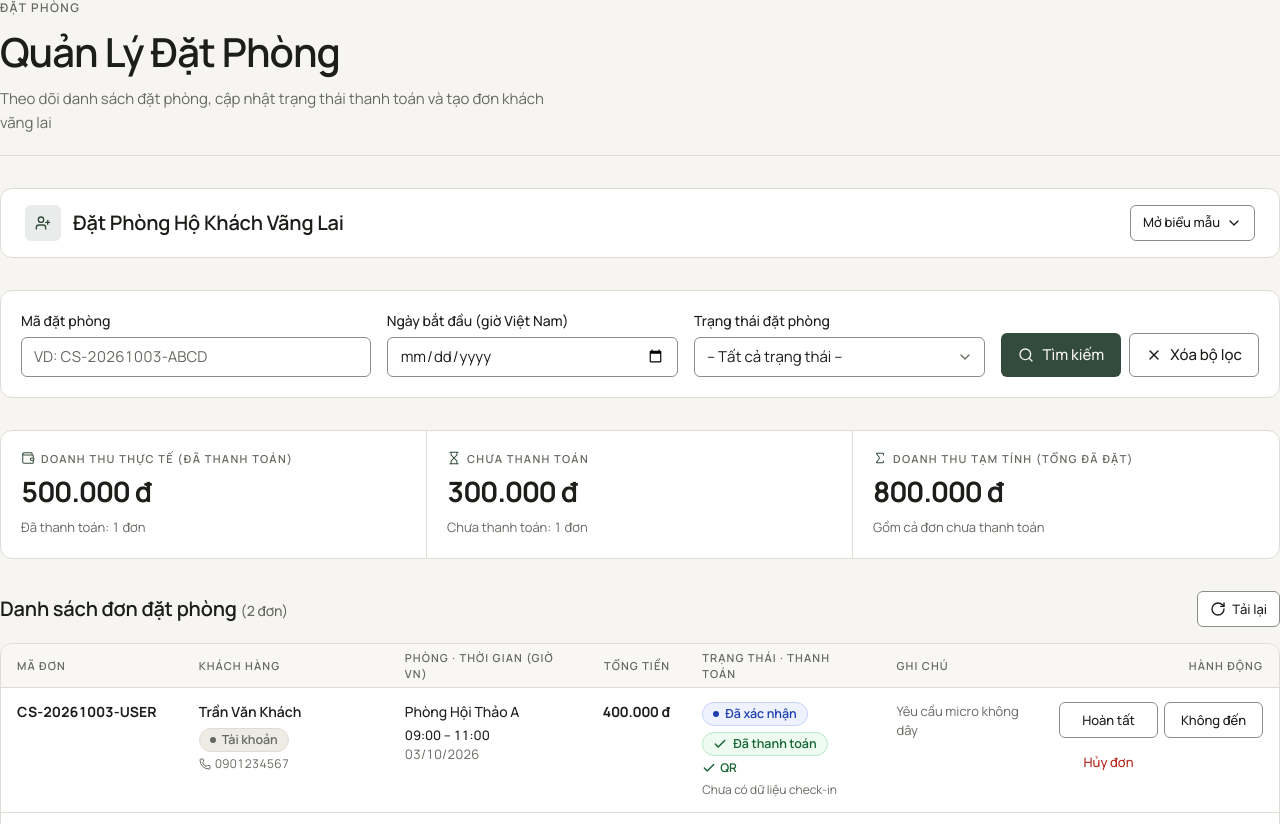
Scenario: AdminBookingsPage - Booking Management & Search › toggles the guest booking form on toggle button click
The width and height of the screenshot is (1280, 824).
Step 1. Click the button with test id "toggle-guest-form-btn" → [1192, 223], box [1130,205,1255,241]
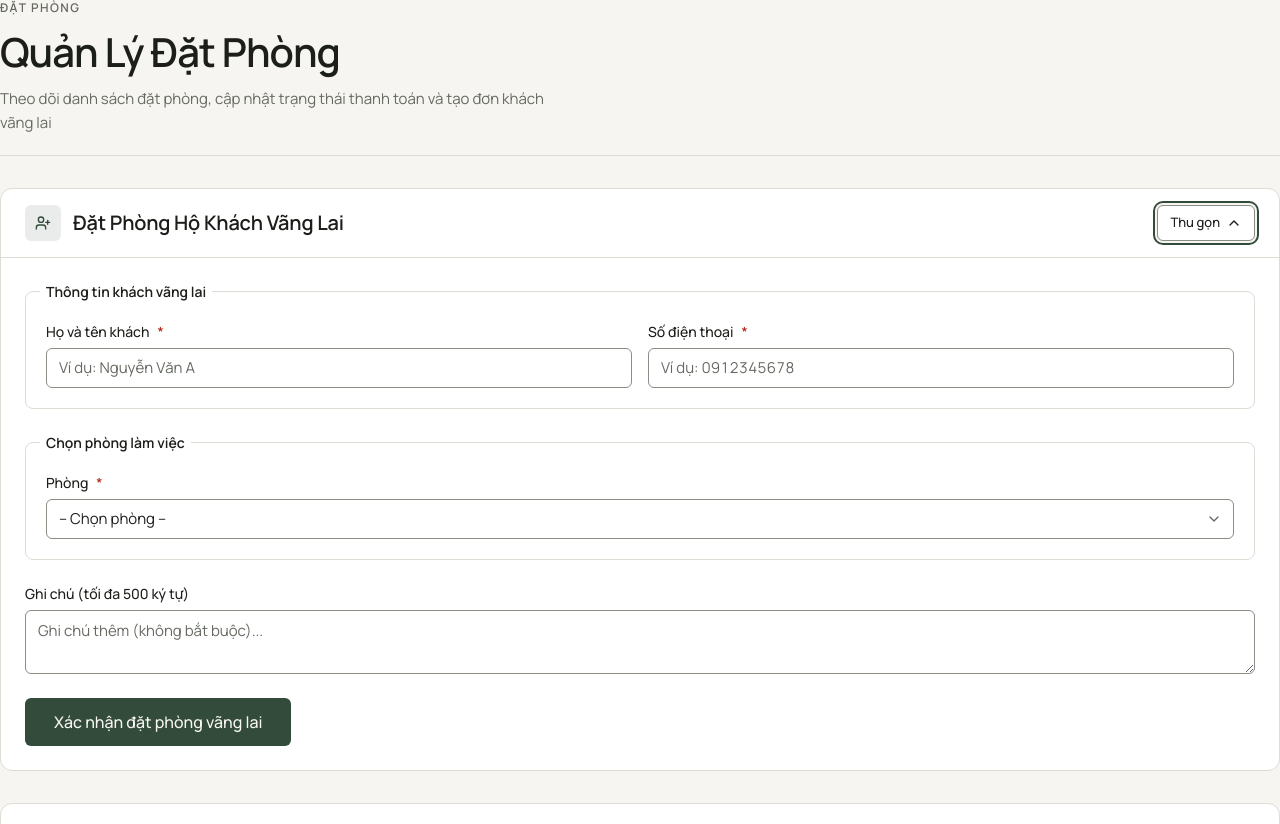
Check: the field with test id "guest-name-input" is shown, box [46,348,632,388]
